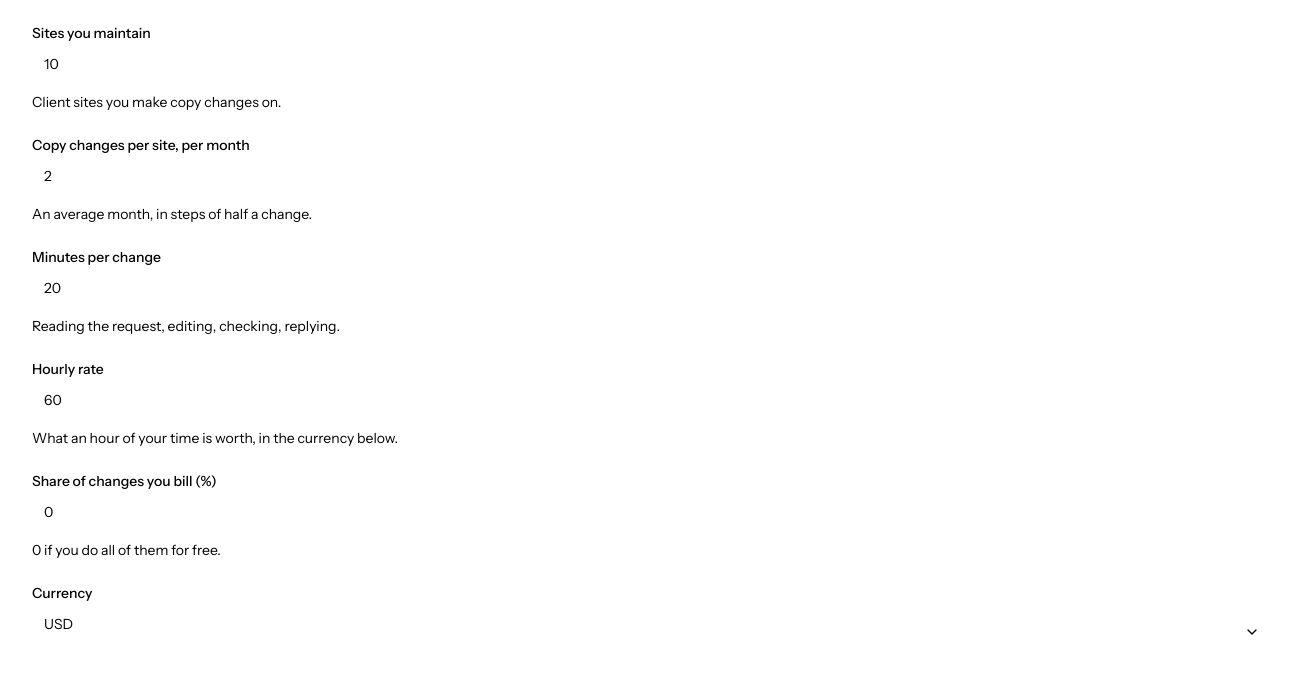
Scenario: CostCalculator › shows a field message and uses the clamped value when out of range
Replace the text in the number field labelled "Sites you maintain" with "9999" at {"x": 652, "y": 64}, box [32,44,1272,84]
(page scrolled)
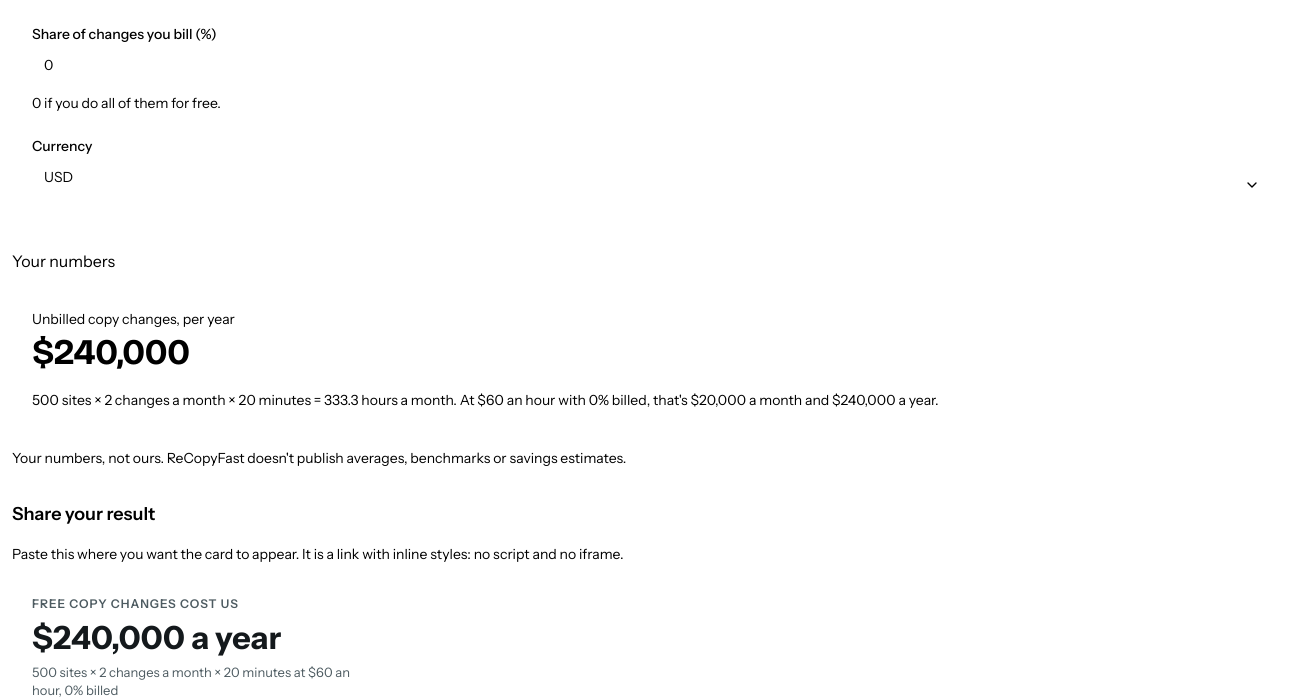
Expected: the element with test id "result-panel" does not show "NaN", [32,310,938,409]
Expected: the element with test id "result-panel" shows "500 sites", [32,391,938,409]
